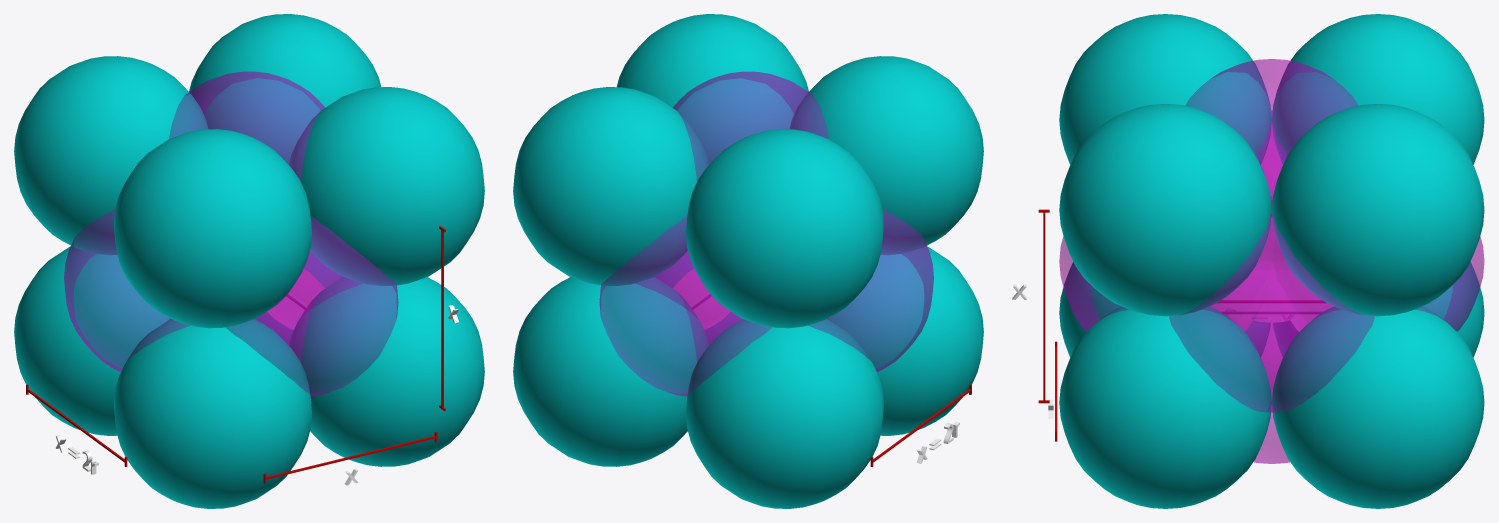
Rendered from FCCFE_centrado_android.glb.
3 renders of one model, left to right at view 1: azimuth 30°, elevation 25°; view 2: azimuth 150°, elevation 25°; view 3: azimuth 270°, elevation 25°, orthographic. The views are drawn at different scales.
Visible parts, largest first — view 1: pasted__typeMesh4; view 2: pasted__typeMesh4; view 3: pasted__typeMesh4.
Boxes of the visible parts, bbox=[...] form: pasted__typeMesh4: bbox=[14, 14, 484, 508]; pasted__typeMesh4: bbox=[513, 14, 983, 508]; pasted__typeMesh4: bbox=[1012, 14, 1484, 508].
Size of the model in its own units: 2.06 by 2 by 2.22.
